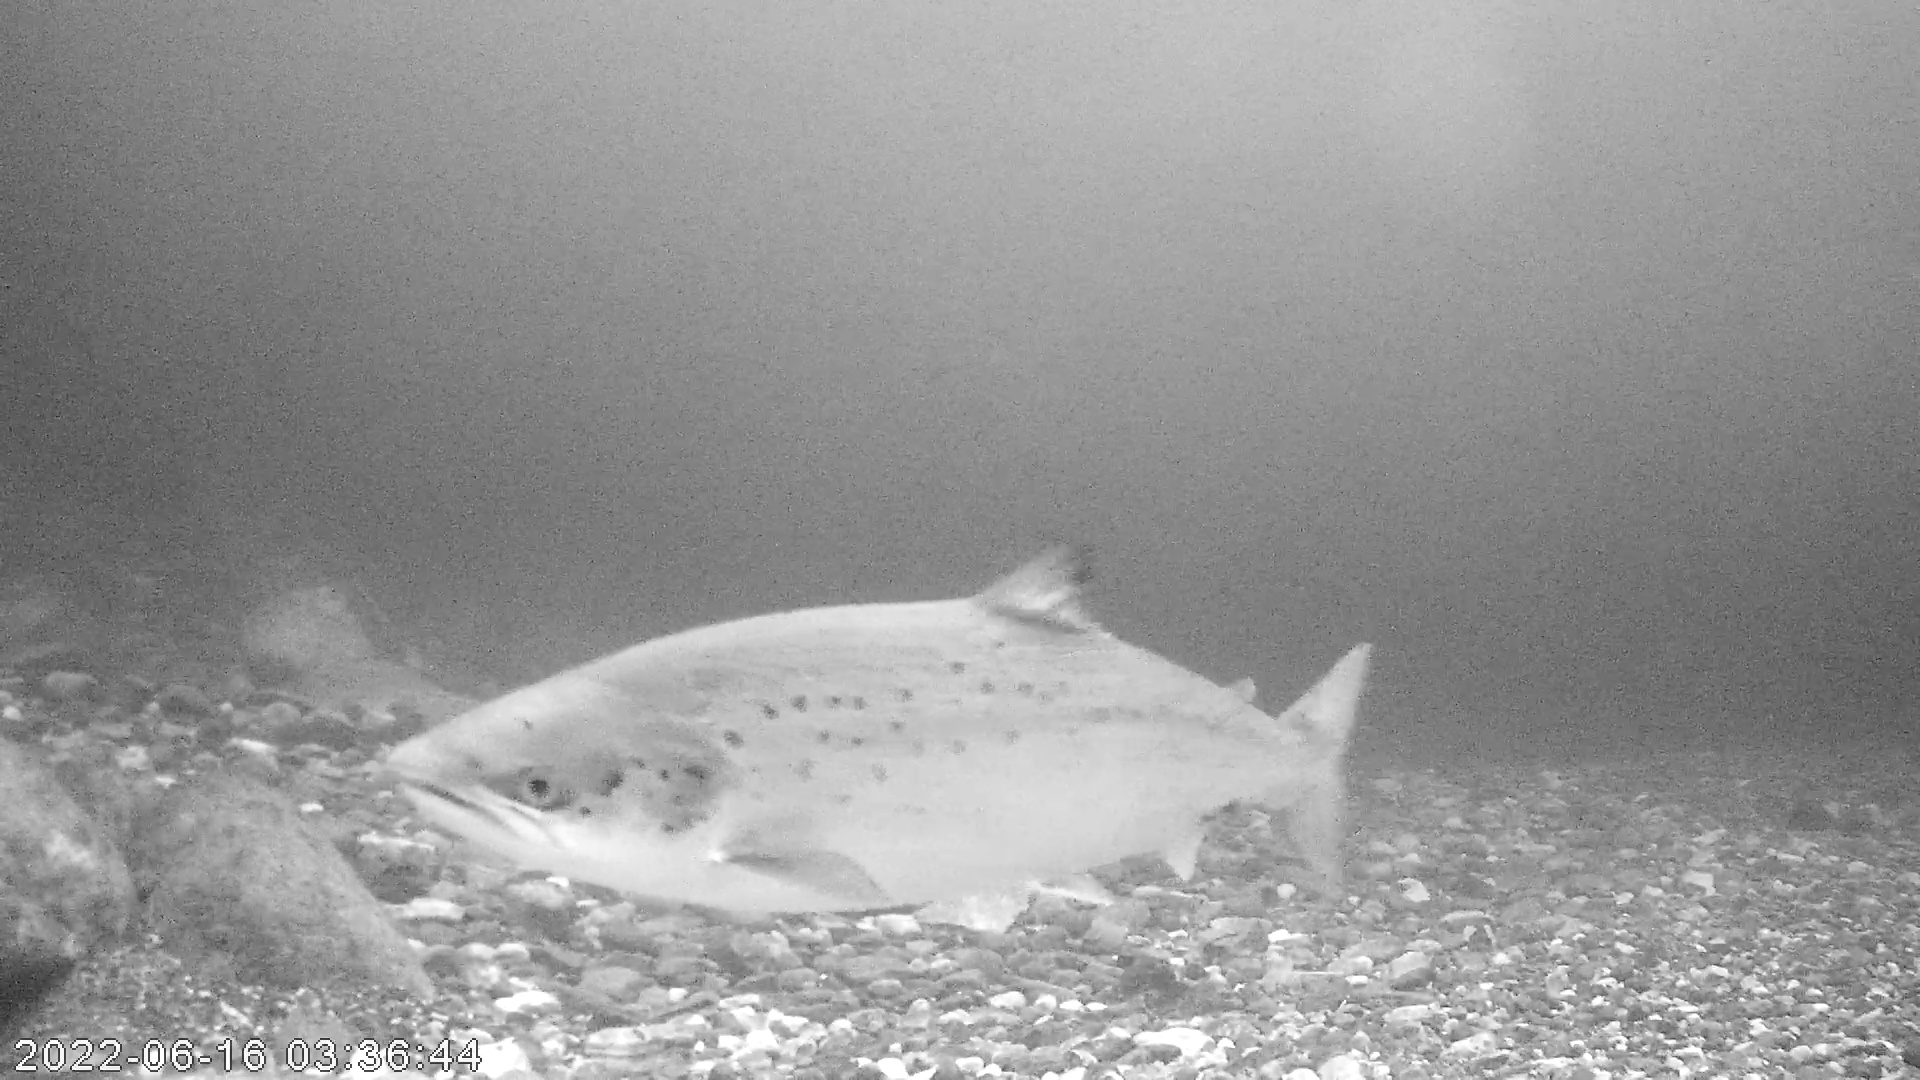salmon: (384, 535, 1374, 918)
